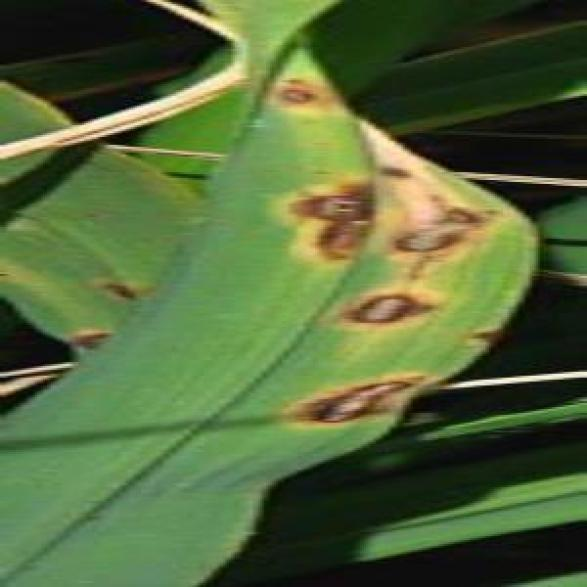Brown_Spot: (274, 352, 442, 438), (315, 262, 456, 350), (264, 168, 386, 231), (380, 209, 475, 274), (286, 211, 378, 274), (415, 184, 507, 237), (258, 78, 337, 120), (368, 149, 417, 188), (276, 65, 315, 84)
